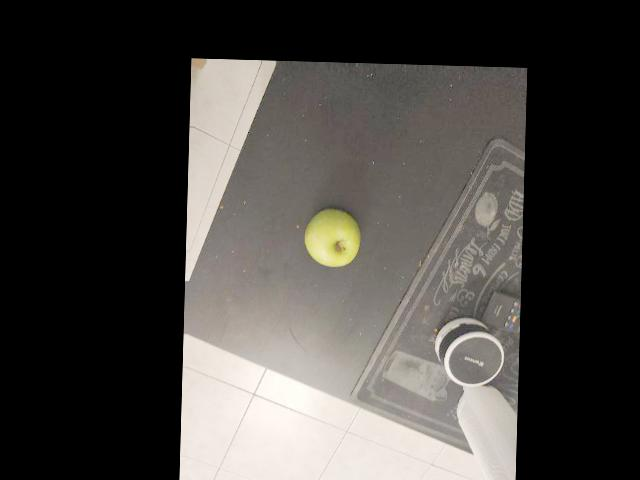apple: (203, 322, 289, 401)
